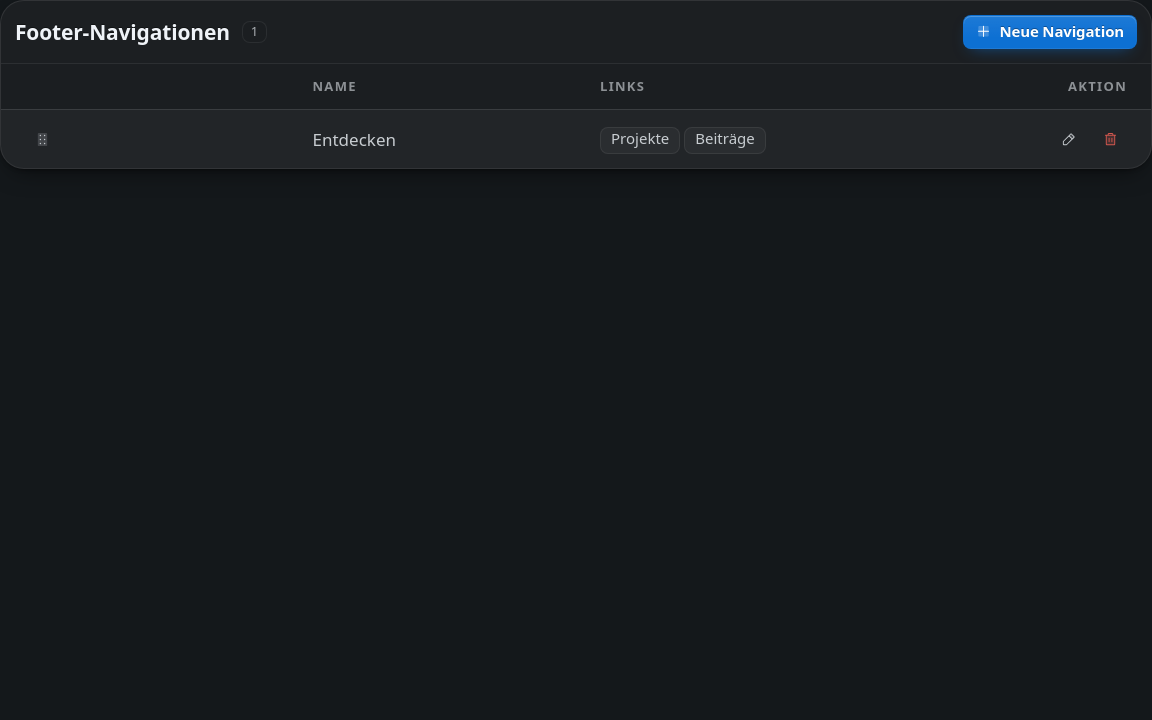
Test: asks before deleting and states exactly how many links go with the group
Click the button named "Entdecken löschen".
click(1110, 139)  # box x1=1093 y1=122 x2=1127 y2=156
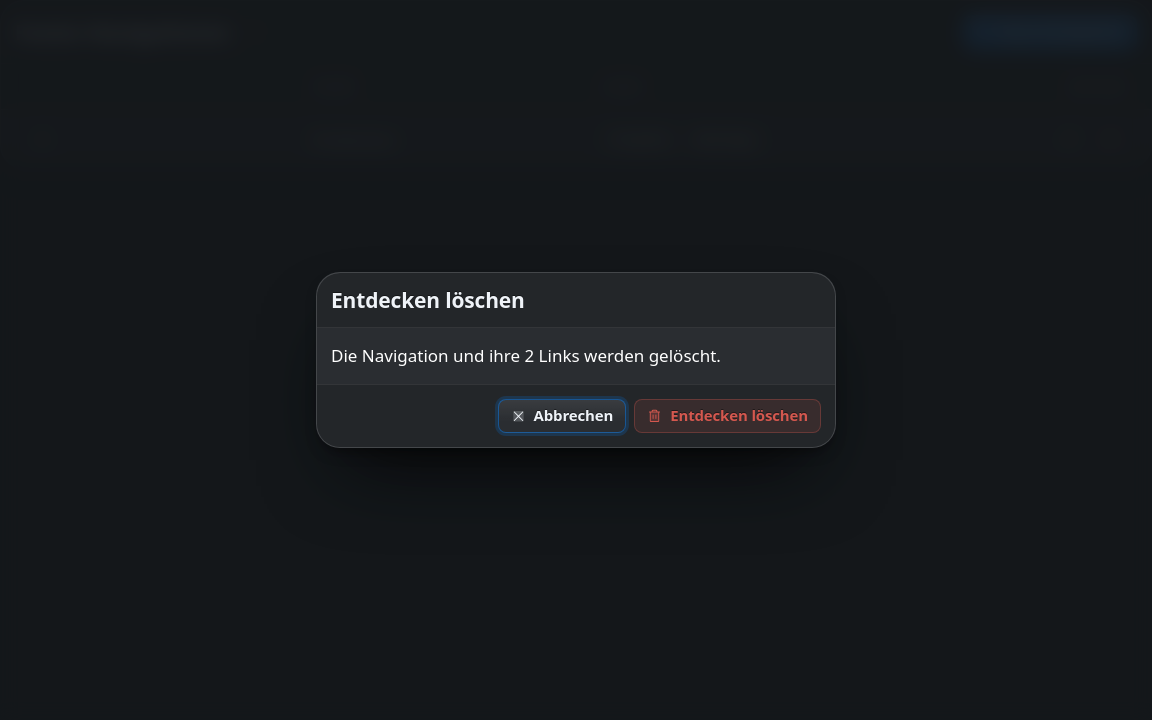
Expected: the text "Die Navigation und ihre 2 Links werden gelöscht." is shown, x1=331 y1=344 x2=721 y2=367
Click the button "Abbrechen".
click(562, 416)  # box x1=498 y1=400 x2=626 y2=434
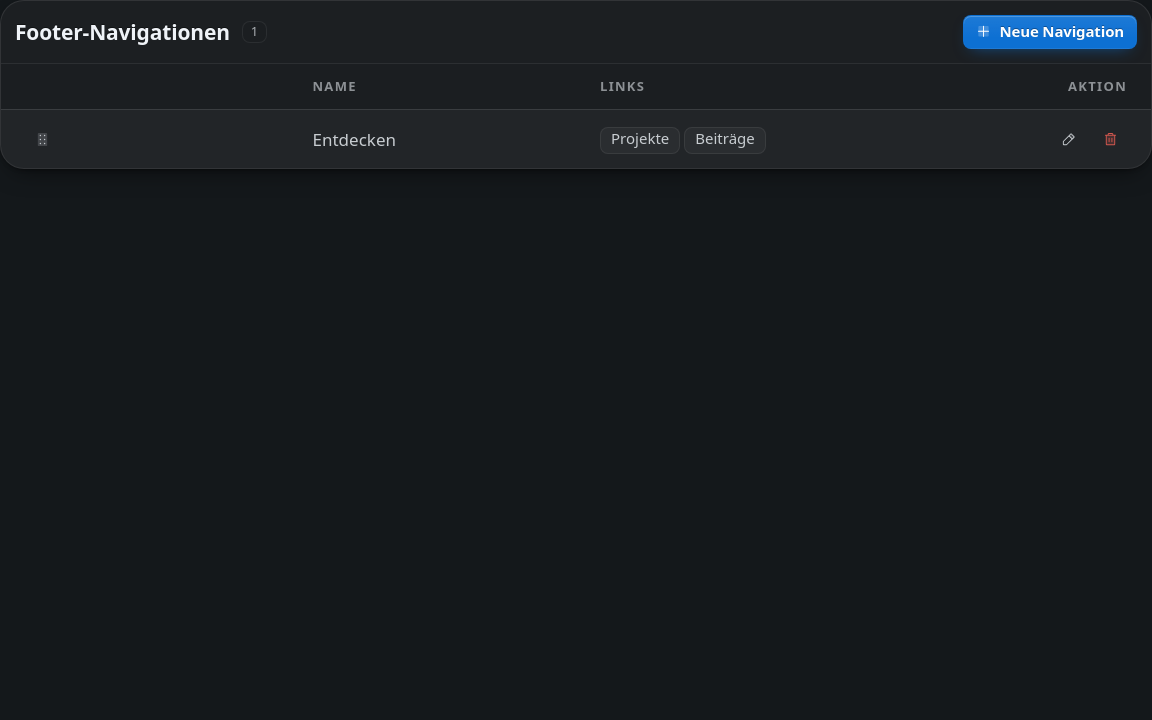
Expected: the dialog is gone
